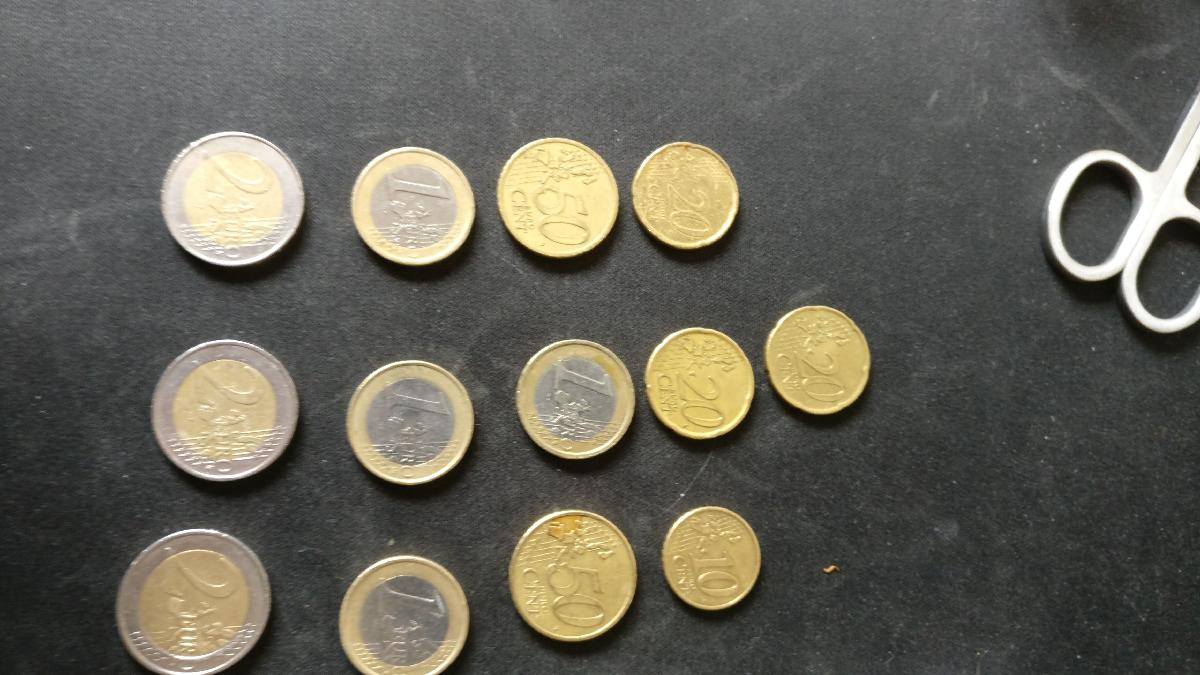Fifty Cent: (510, 509, 637, 641), (496, 139, 625, 261)
One Euro: (337, 552, 470, 675), (343, 362, 476, 481), (513, 335, 640, 458), (357, 149, 477, 263)
Ten Cent: (661, 503, 764, 611)
Twenty Cent: (764, 305, 879, 419), (646, 326, 753, 441), (631, 139, 739, 250)
Two Euro: (147, 336, 304, 481), (113, 531, 275, 668), (159, 132, 311, 267)
